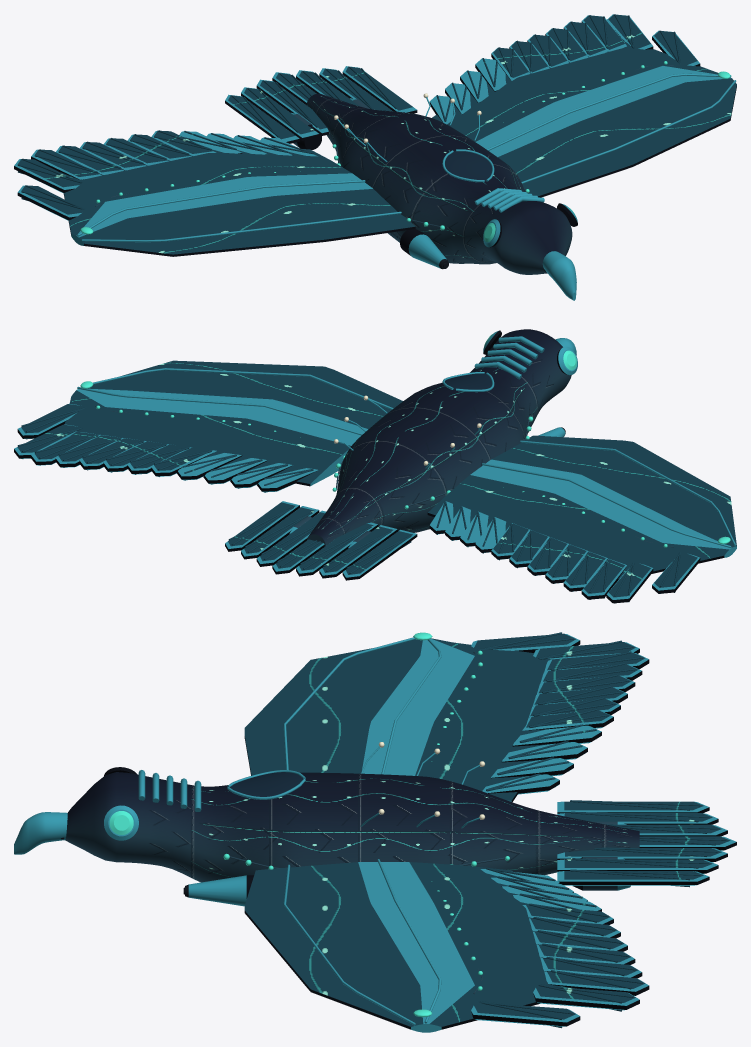
3 views of the same model, one above another, from view 1: azimuth 30°, elevation 25°; view 2: azimuth 150°, elevation 25°; view 3: azimuth 270°, elevation 25° (orthographic). The views are drawn at different scales.
Parts seen in each view (by area): view 1: golden_eagle_hull; view 2: golden_eagle_hull; view 3: golden_eagle_hull.
Part boxes in pixels (left/top/right/bottom): golden_eagle_hull: left=14, top=14, right=736, bottom=300; golden_eagle_hull: left=14, top=329, right=736, bottom=603; golden_eagle_hull: left=14, top=632, right=736, bottom=1032.
Size of the model in its own units: 84 by 13.1 by 66.07.
1 material, 1 textured.
